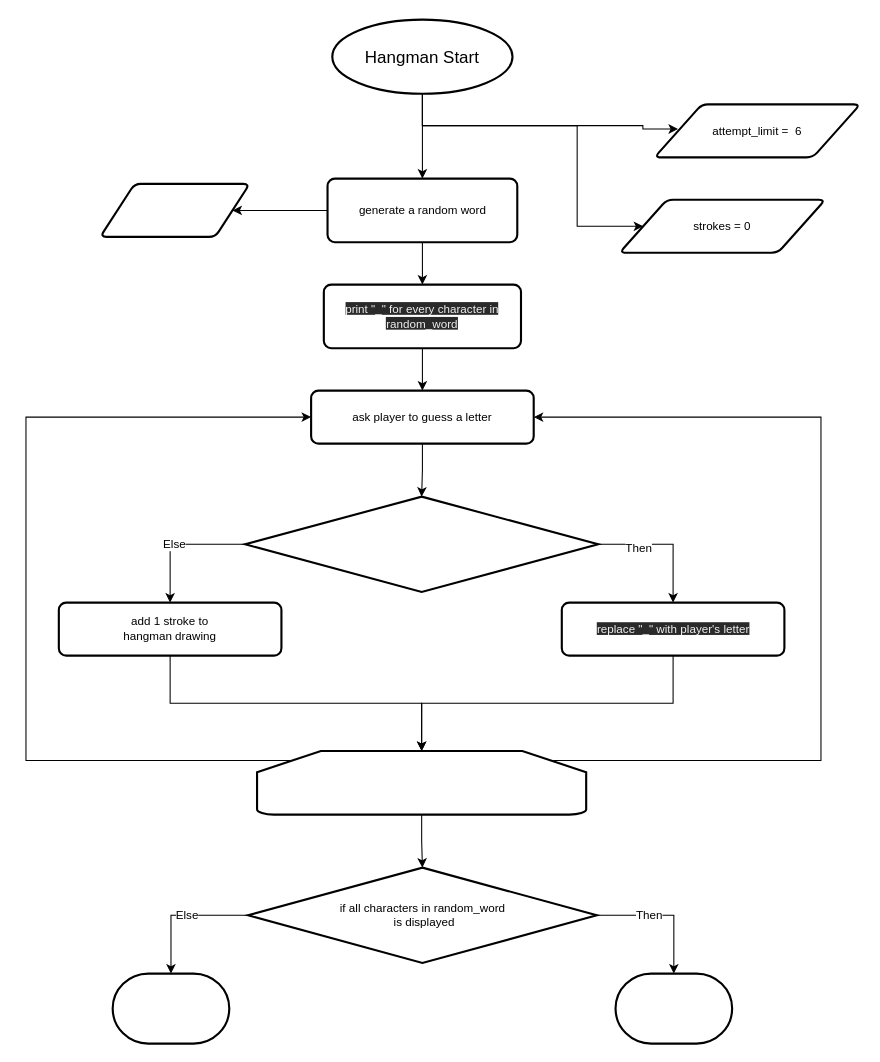
The diagram is 880 pixels wide and 1062 high, and some of its shapes have lost their labels. Each missing label, with the centre of its shape:
if letter match characters in random_word: (421,544)
player lose, game over: (170,1008)
player win, game completed: (673,1008)
random_word (tomato): (174,209)
while (strokes < attempt limit) or not all "_" is replaced: (421,782)
